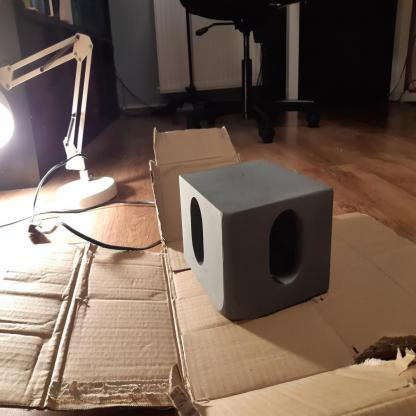CornerCasting: (176, 149, 334, 325)
